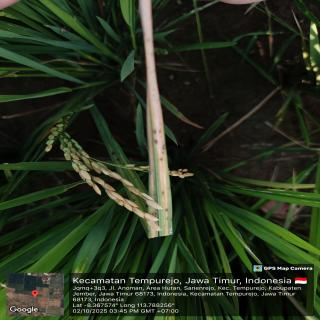Hawar-Daun: (142, 0, 168, 216)
